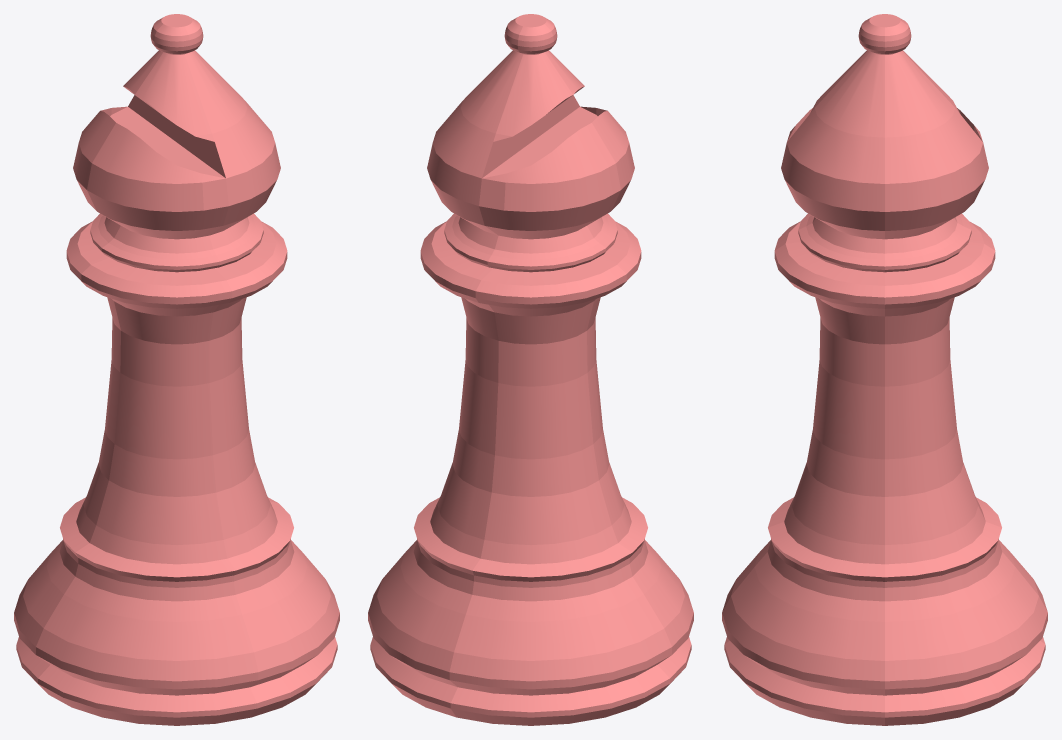
Rendered from bishop.dae.
3 renders of one model, left to right at view 1: azimuth 30°, elevation 25°; view 2: azimuth 150°, elevation 25°; view 3: azimuth 270°, elevation 25°, orthographic.
Visible parts, largest first — view 1: SketchUp (×3); view 2: SketchUp (×3); view 3: SketchUp (×3).
Part boxes in pixels (x1,y1,x2,y2): SketchUp (×3): (14,14,339,725); SketchUp (×3): (368,14,693,725); SketchUp (×3): (722,14,1047,725).
Size of the model in its own units: 30.77 by 30.77 by 66.94.
